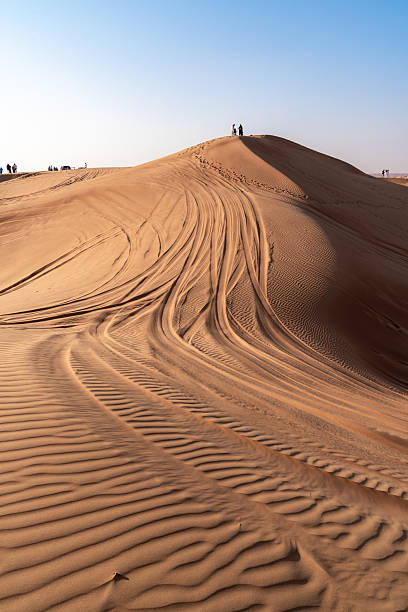vehicle_track: (0, 145, 407, 611), (0, 340, 325, 611), (71, 353, 405, 575), (71, 353, 406, 557), (98, 339, 406, 498)
